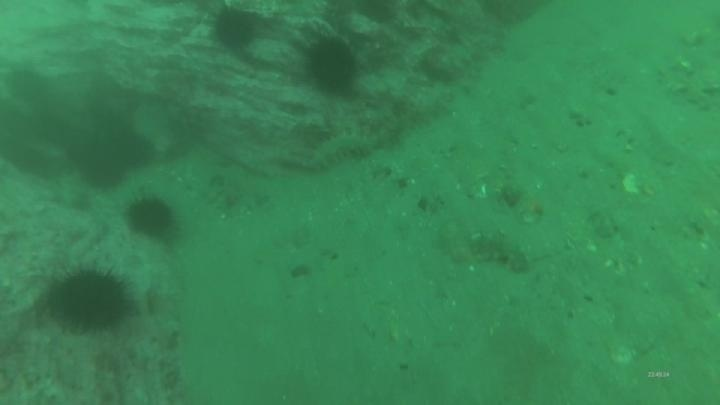echinus: (45, 262, 136, 336), (300, 31, 363, 99), (123, 191, 179, 242), (208, 3, 261, 54), (106, 128, 156, 172), (78, 161, 130, 194), (70, 133, 110, 169)
holothurian: (465, 227, 533, 276), (301, 130, 377, 173)
